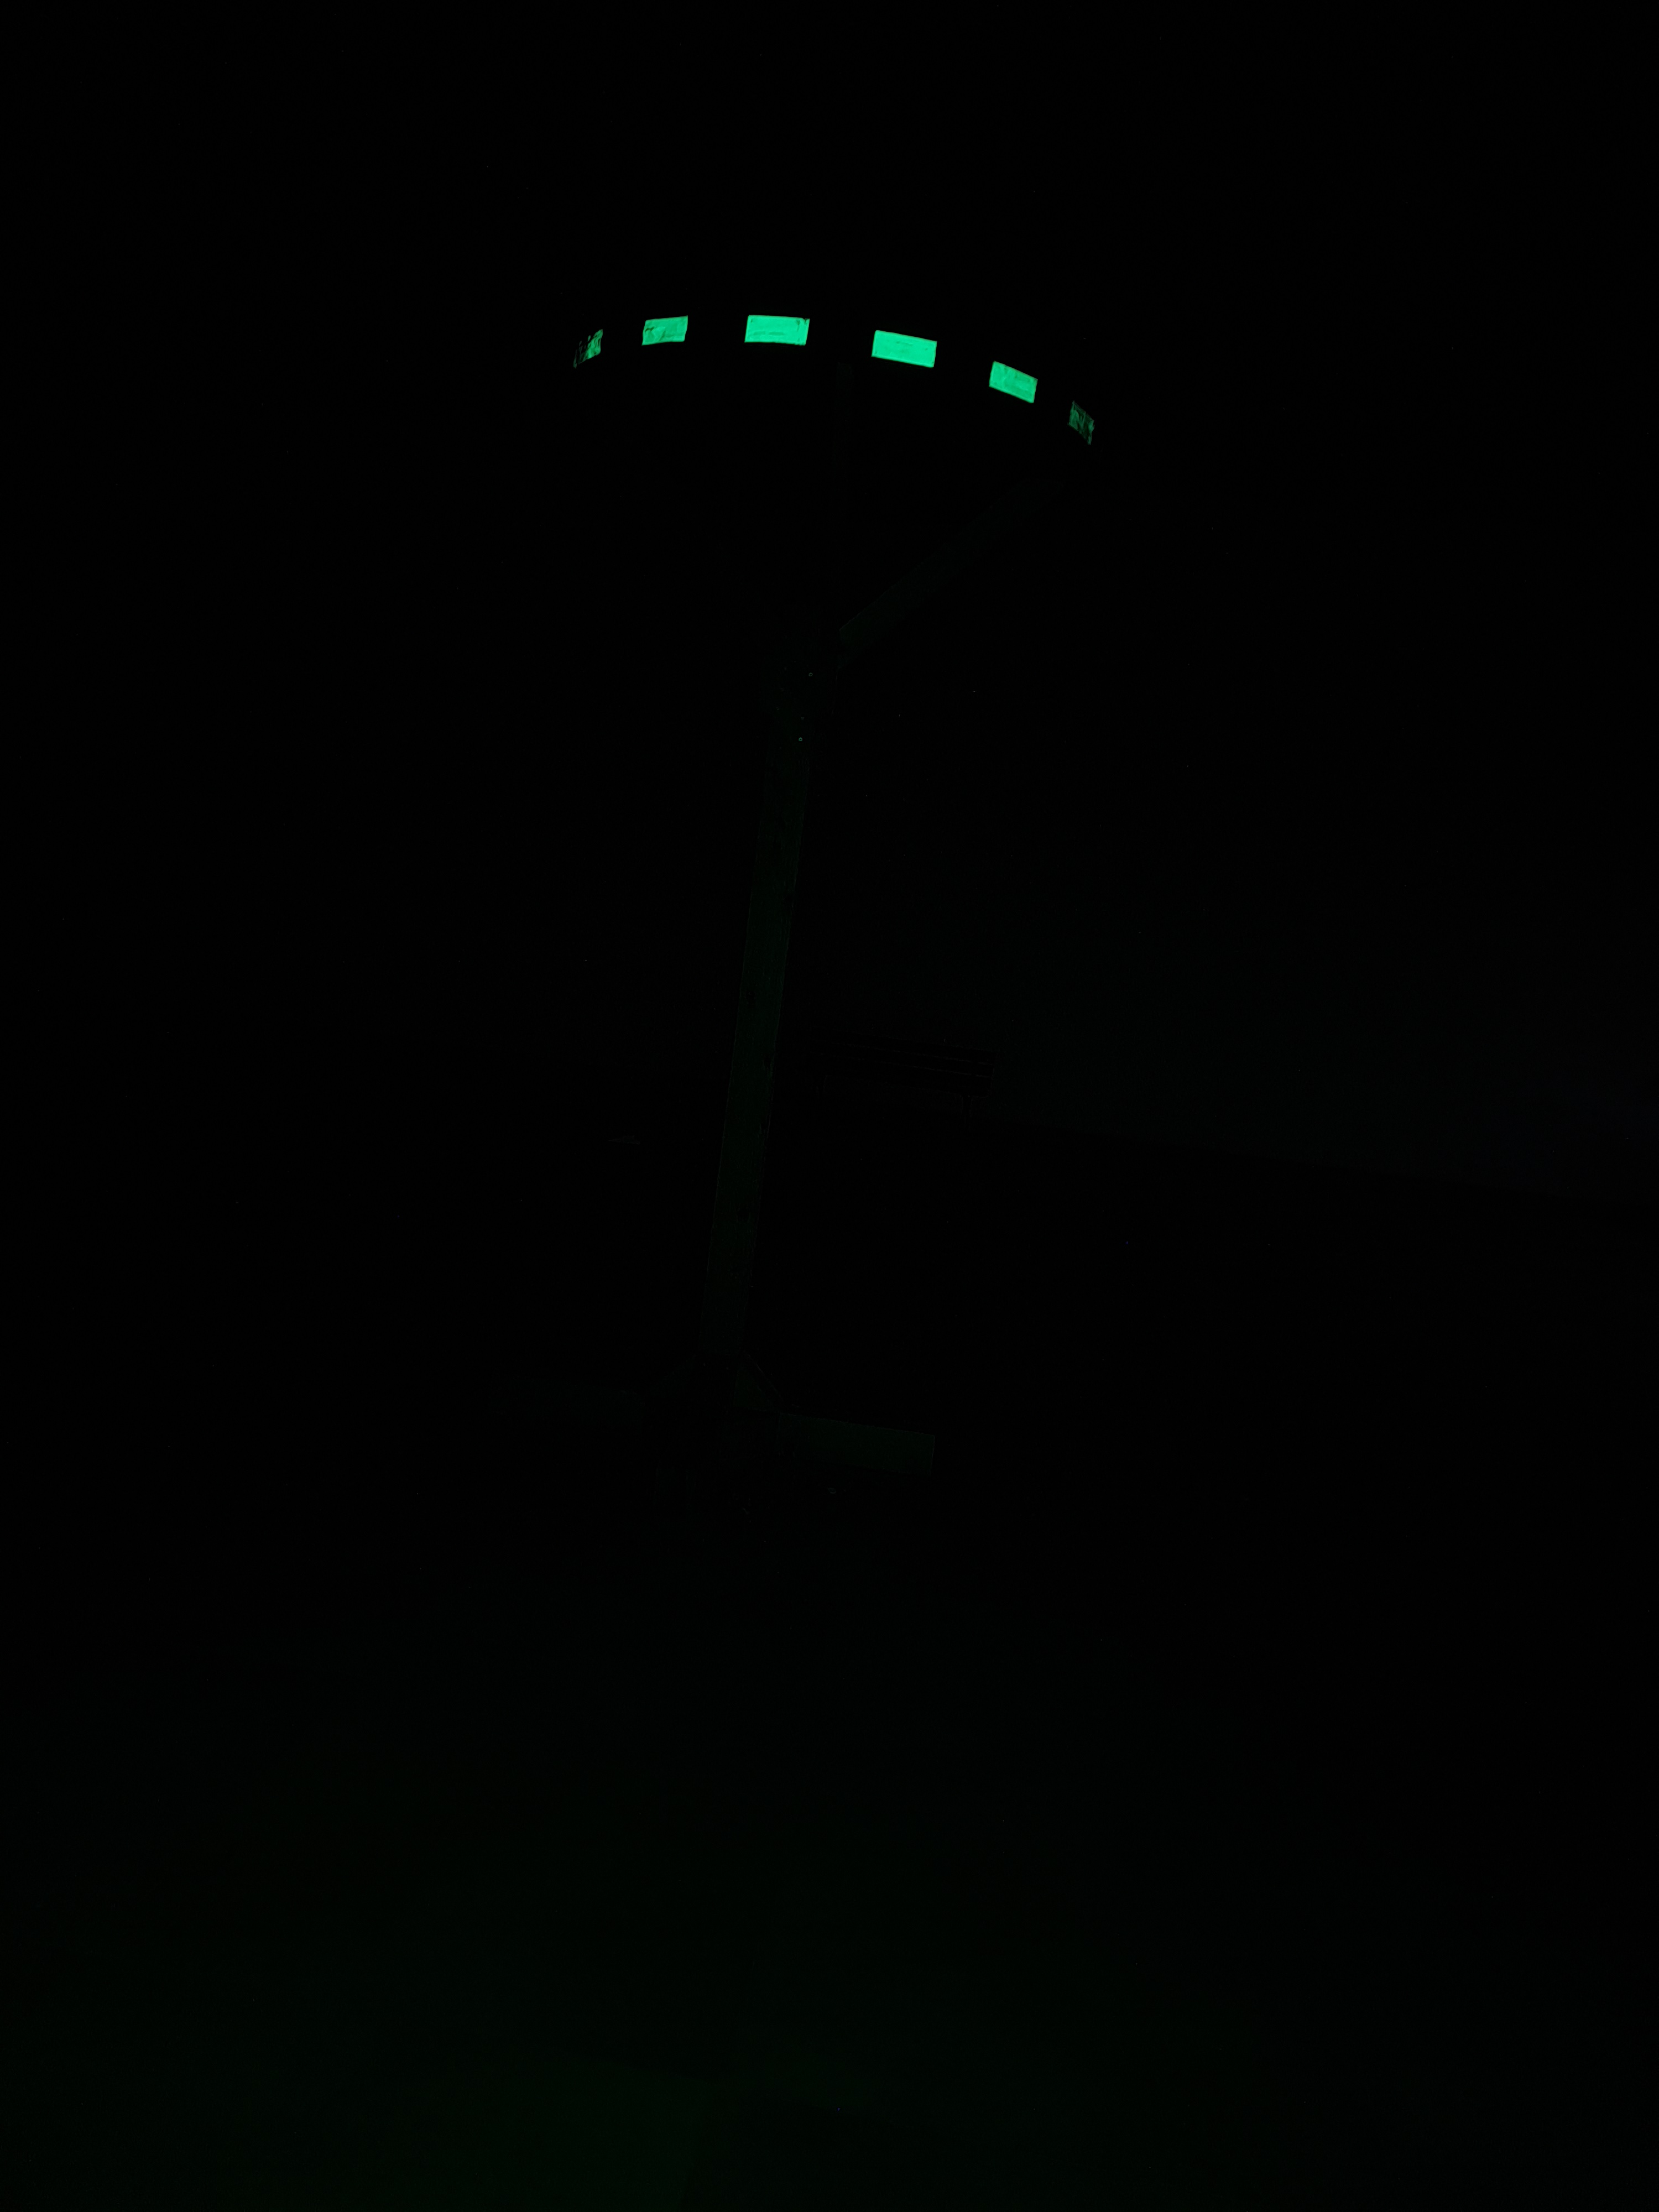hoop: (573, 291, 1110, 458)
